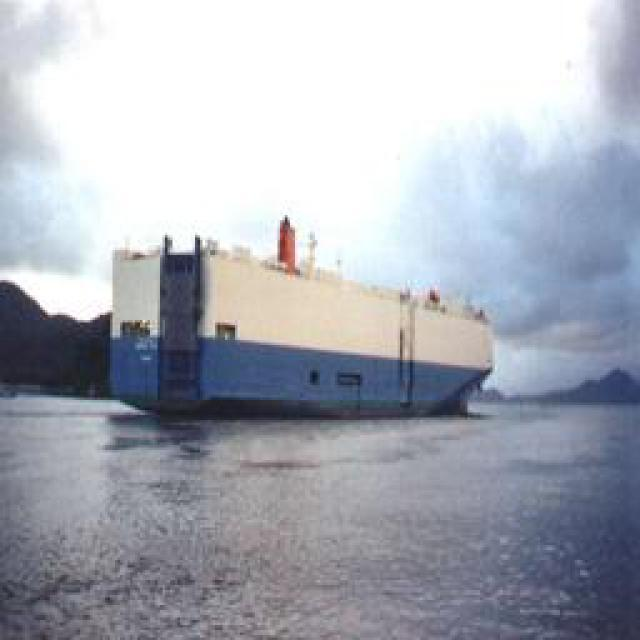Ship: (111, 229, 494, 422)
